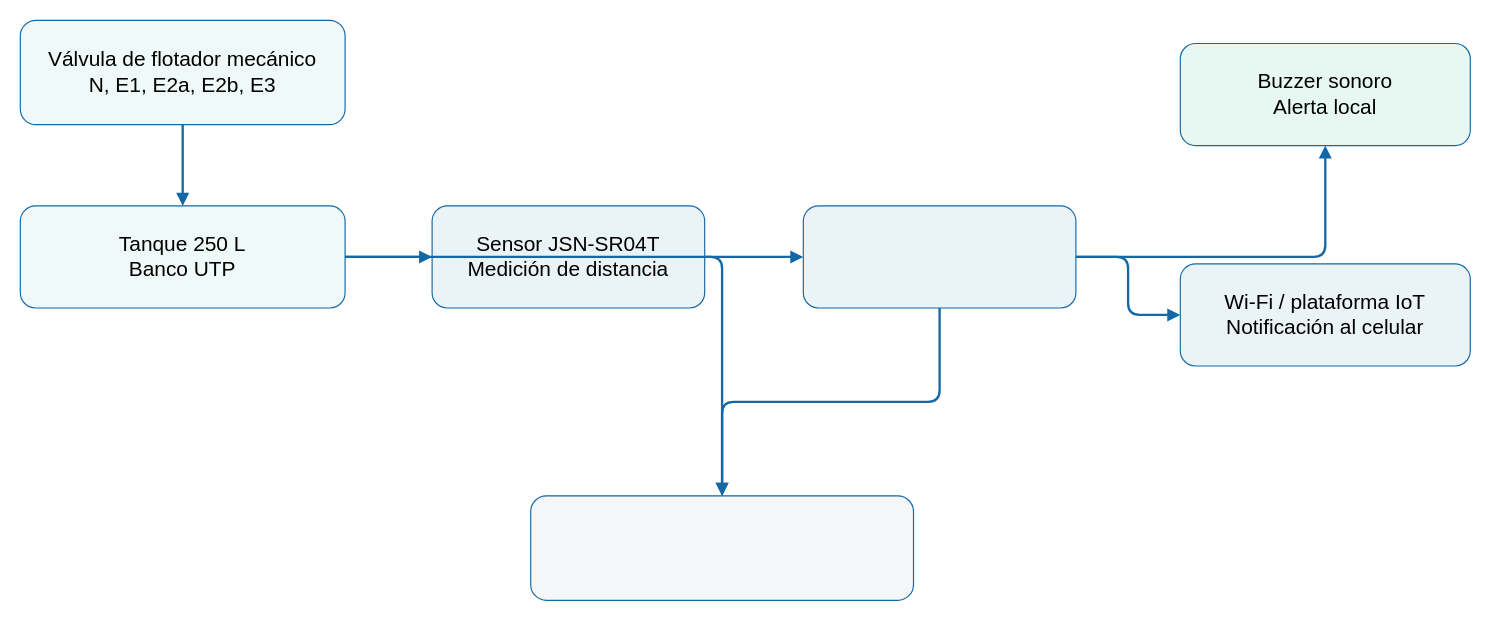
Image size: 1491x621. Some labels were removed from this diagram. Each missing label, with the centre of its shape:
ESP32 Umbrales y confirmación: [939,256]
Referencia y video Validación / datasets: [721,547]
